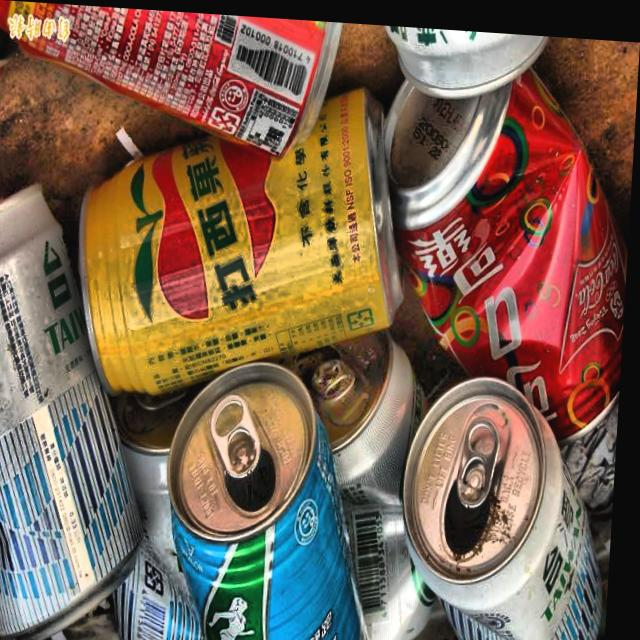can: (61, 61, 423, 430), (366, 36, 639, 454), (0, 158, 170, 640), (162, 348, 399, 640), (394, 358, 624, 640), (0, 1, 350, 164), (281, 325, 460, 640), (79, 382, 239, 640), (367, 19, 560, 104)
